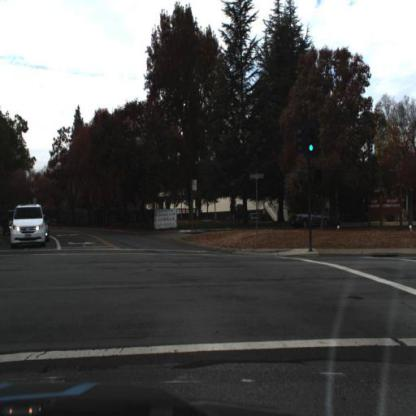car: (5, 199, 56, 252), (291, 206, 335, 232)
trafficLight-Green: (308, 127, 315, 154)
